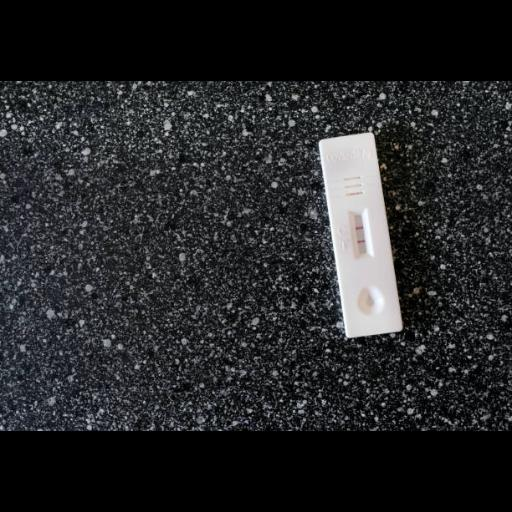Pos: (319, 131, 403, 337)
